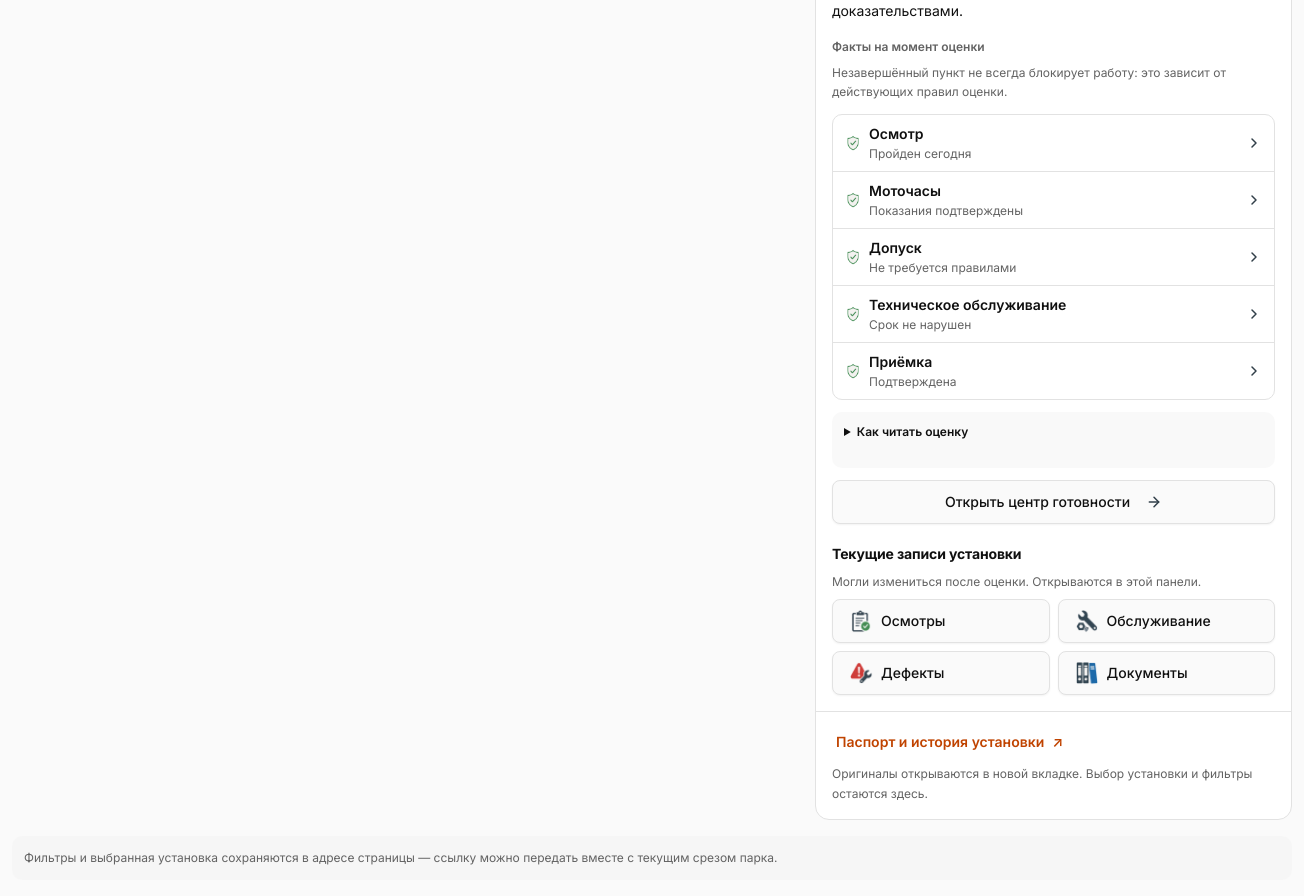
Fleet evidence interactions › does not show no defects when the request is forbidden
This screenshot has width=1304, height=896.
(page scrolled)
Click the button "Дефекты" at (941, 673), box [832,651,1050,695]
(page scrolled)
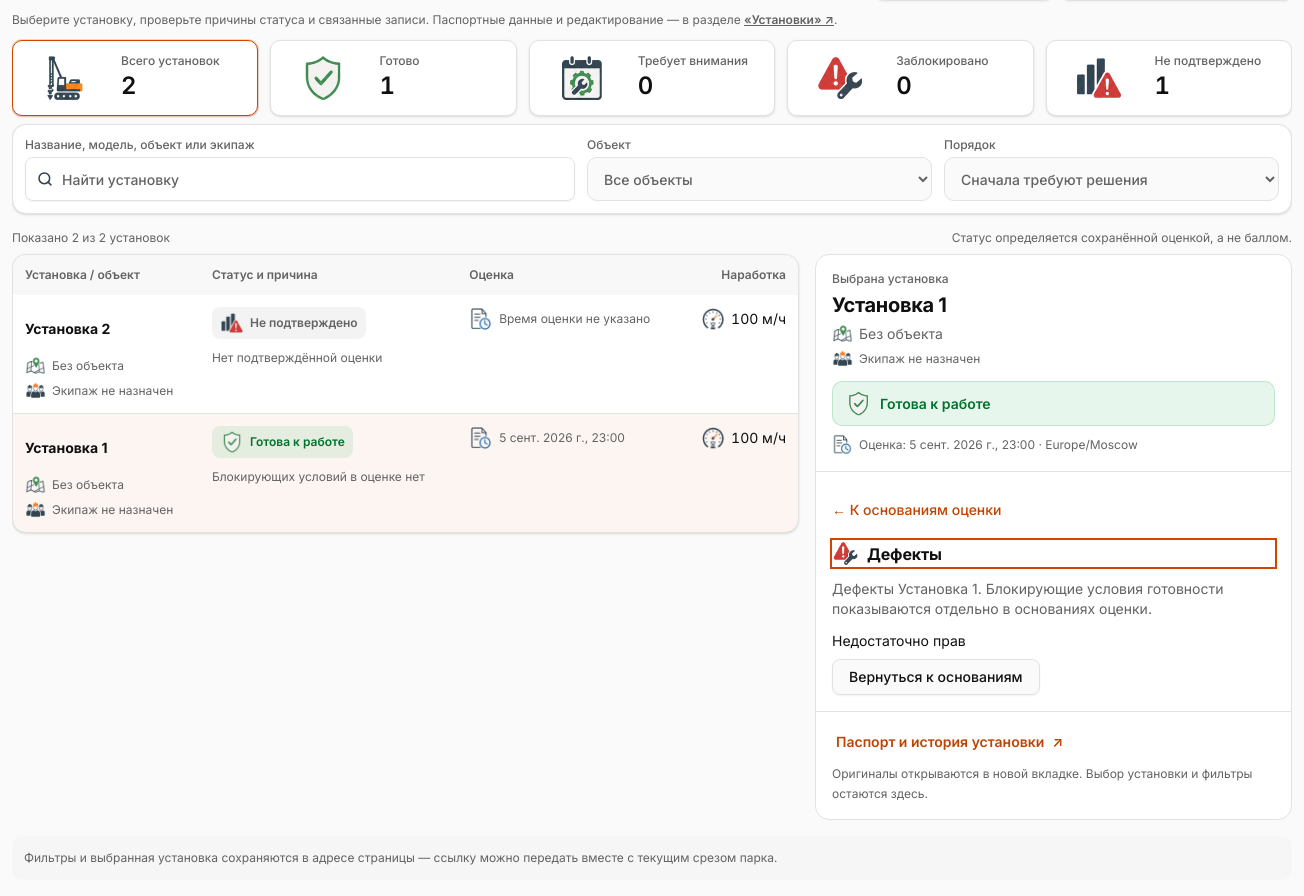
Check: the message "Недостаточно прав Вернуться к основаниям" is shown, box [832,632,1040,695]
